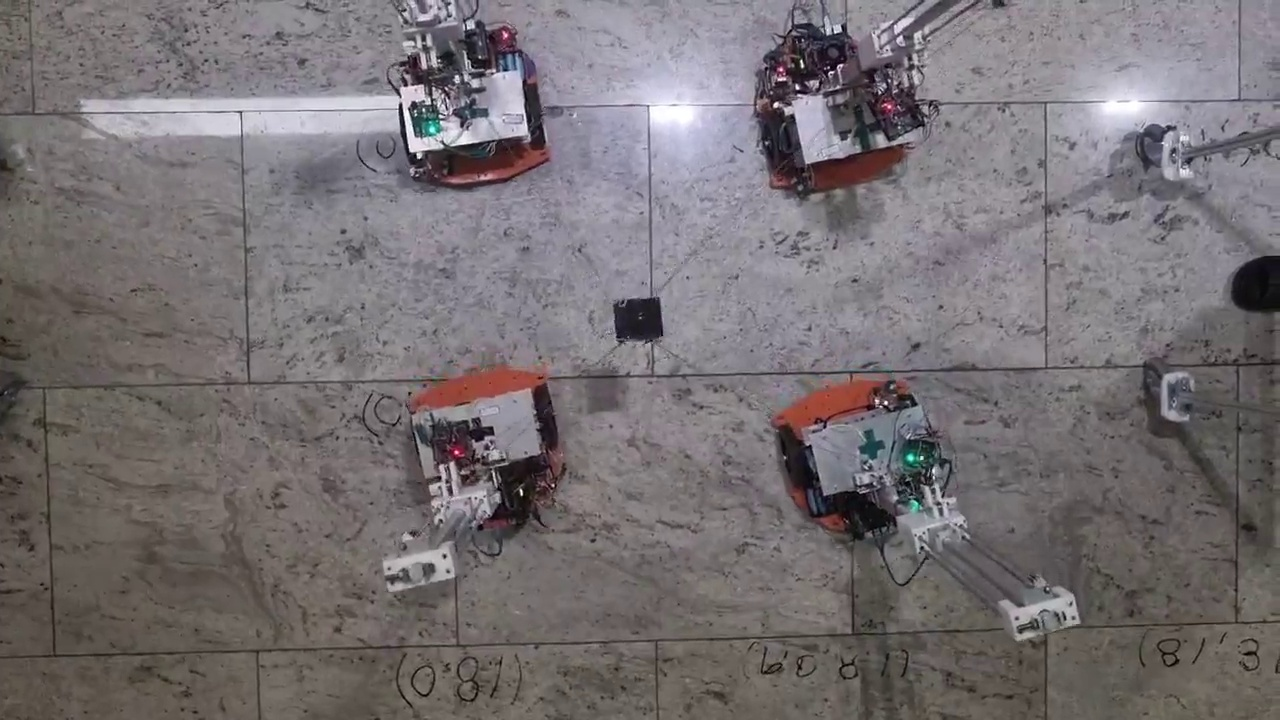e0: (616, 298, 661, 339)
r1: (780, 393, 928, 493)
r2: (758, 68, 908, 169)
r3: (395, 85, 546, 163)
r4: (412, 384, 561, 474)
y_+_axis_vector: (653, 366, 1048, 375)
y_-_axis_vector: (250, 376, 653, 383)
